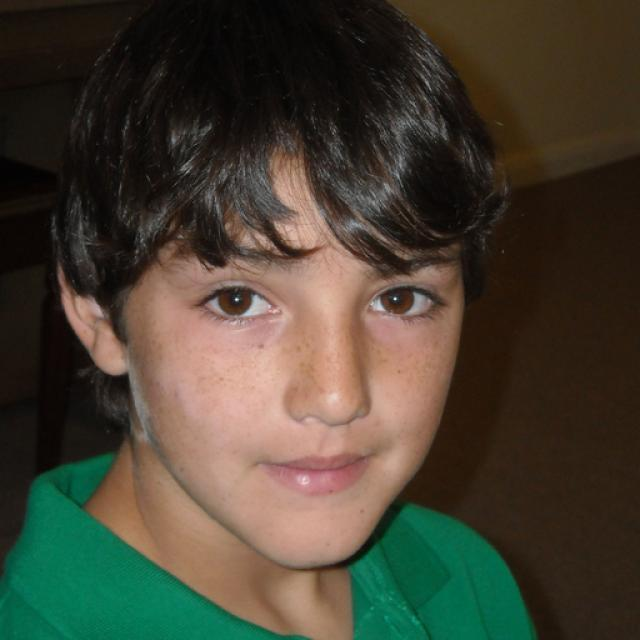0_rostro_limpio: (56, 0, 464, 568)
